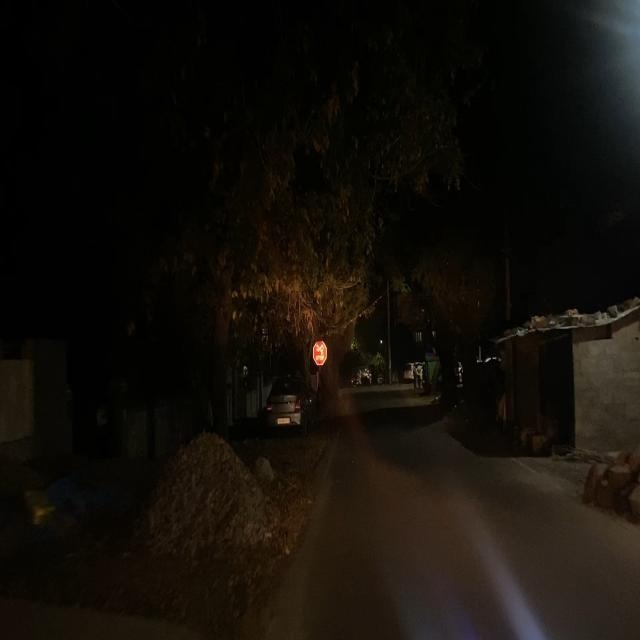bien_cam: (313, 340, 327, 365)
